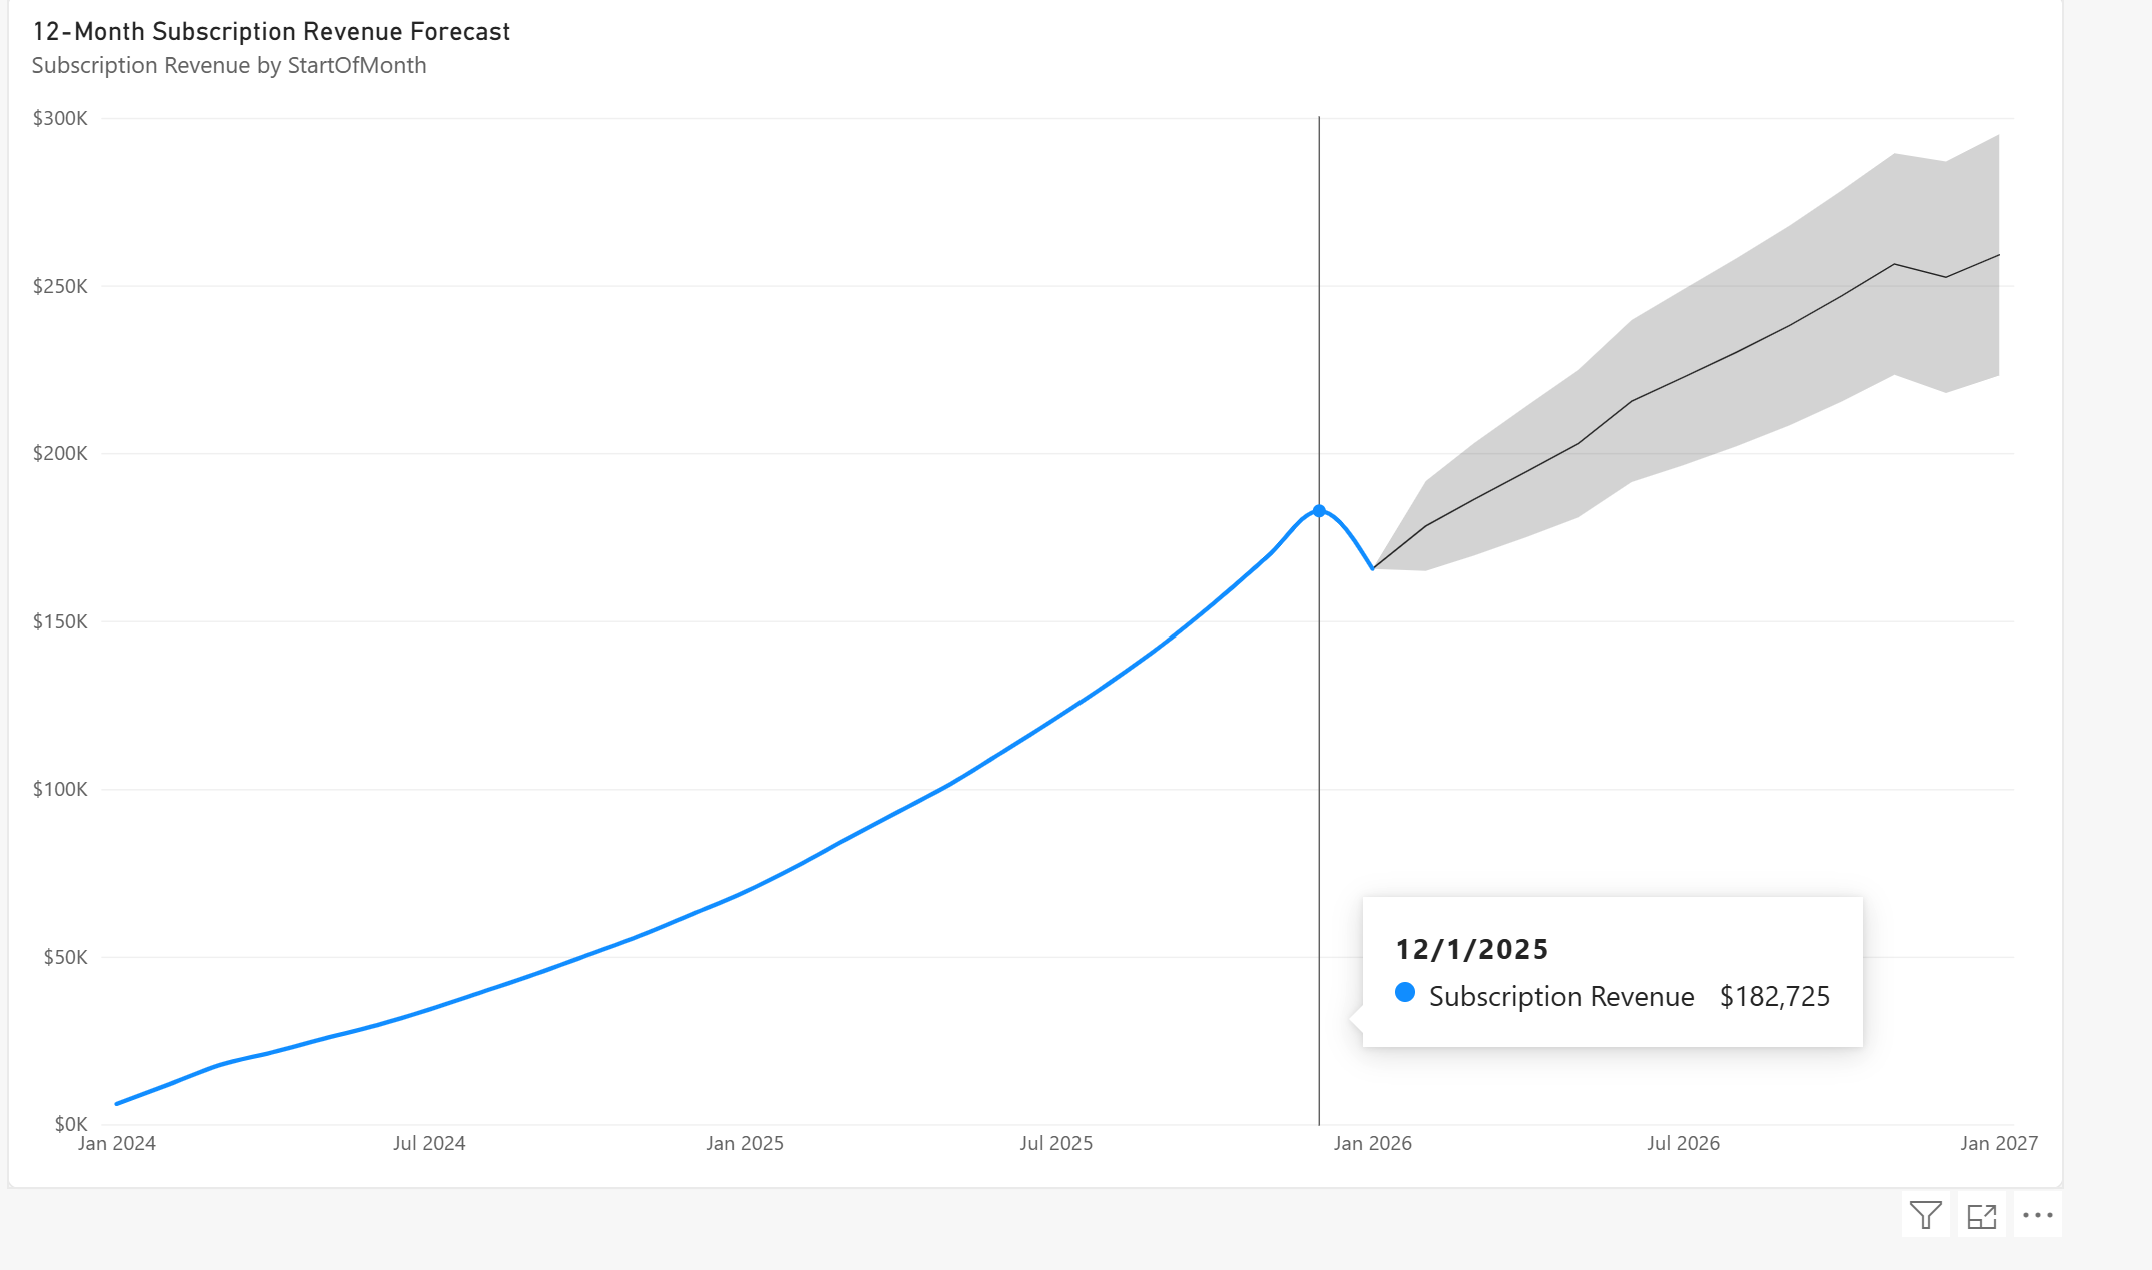

This screenshot's page, from the dashboard's own definition file:
{"tool":"powerbi","page":{"name":"Revenue Forecast","canvas":[1920,1080],"ordinal":1},"visuals":[{"type":"lineChart","title":"12-Month Subscription Revenue Forecast","fields":{"Y":["transactions.Subscription Revenue"],"Category":["dim_date.StartOfMonth"]},"box":[9.7,0,1428.2,829.4],"z":0}]}

Visuals, with their boxes on the page's 1920x1080 design canvas (x1, y1, x2, y2). These are canvas units, not pixel positions in the 2152x1270 screenshot, which may show the page scaled, cropped or inside an application window:
"12-Month Subscription Revenue Forecast" lineChart: 10/0/1438/829
